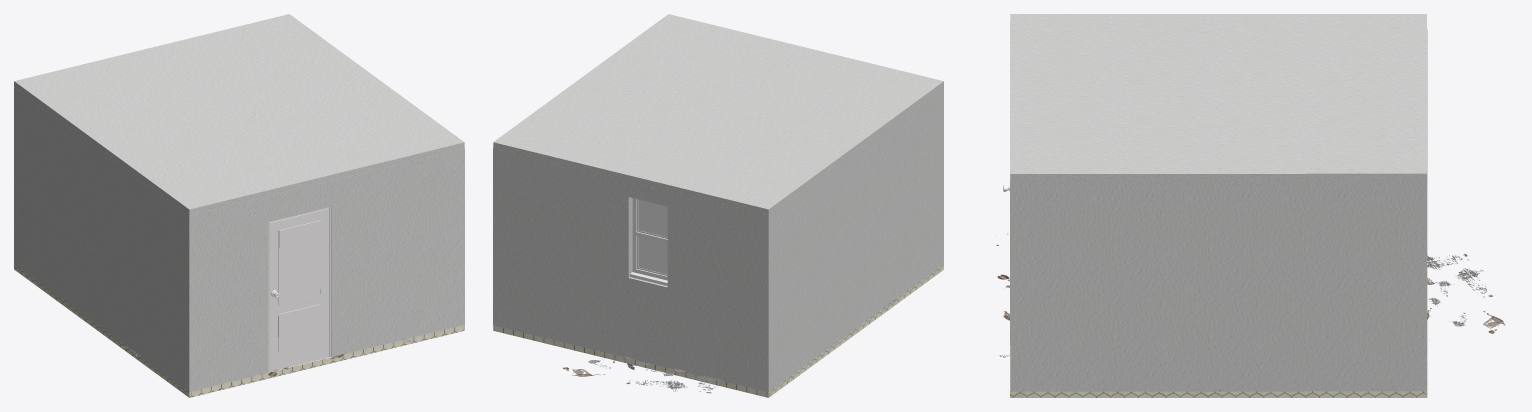
File: FloorPlan429_physics.fbx
3 views of the same model, side by side, from view 1: azimuth 30°, elevation 25°; view 2: azimuth 150°, elevation 25°; view 3: azimuth 270°, elevation 25° (orthographic). The views are drawn at different scales.
Visible parts, largest first — view 1: FP429:Walls, FP429:Ceiling, FP429:Door.021, FP429:Floor, FP429:DoorFrame.021; view 2: FP429:Walls, FP429:Ceiling, FP429:Floor, FP429:polySurface122, FP429:polySurface126, FP429:Decals.012; view 3: FP429:Walls, FP429:Ceiling, FP429:Floor, FP429:Decals.012.
Part boxes in pixels (<box>): FP429:Walls: <box>14,87,464,391</box>; FP429:Ceiling: <box>14,14,464,215</box>; FP429:Door.021: <box>270,208,329,371</box>; FP429:Floor: <box>14,264,464,397</box>; FP429:DoorFrame.021: <box>268,206,331,372</box>; FP429:Walls: <box>493,87,943,392</box>; FP429:Ceiling: <box>493,14,943,215</box>; FP429:Floor: <box>493,264,943,397</box>; FP429:polySurface122: <box>638,200,667,274</box>; FP429:polySurface126: <box>630,198,667,285</box>; FP429:Decals.012: <box>615,354,724,393</box>; FP429:Walls: <box>1010,21,1427,391</box>; FP429:Ceiling: <box>1010,14,1426,180</box>; FP429:Floor: <box>1010,345,1427,397</box>; FP429:Decals.012: <box>1427,253,1492,340</box>.
Size of the model in its own units: 430 by 278 by 552.
